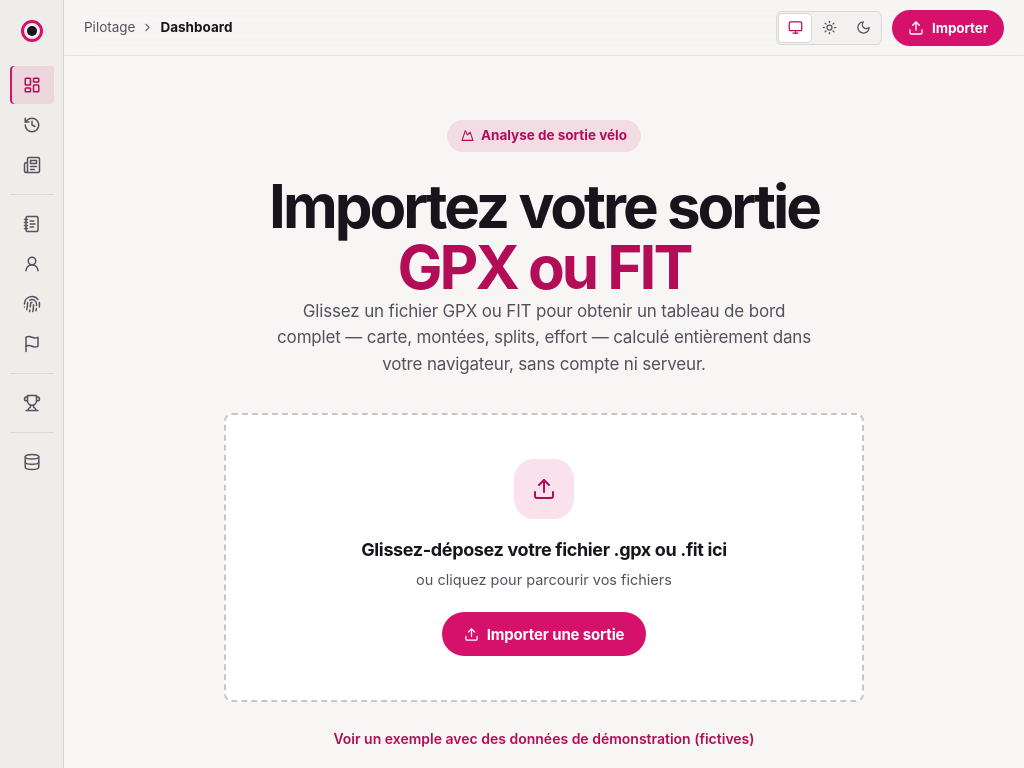
Test: Navigation principale — 6 destinations toujours accessibles › navigue directement vers Alter Ego depuis la navigation principale
Expected: the text "Glissez-déposez votre fichier .gpx ou .fit ici" is shown, [361,539,727,560]
Click the button "Alter Ego" at (32, 403), box [10,384,54,422]
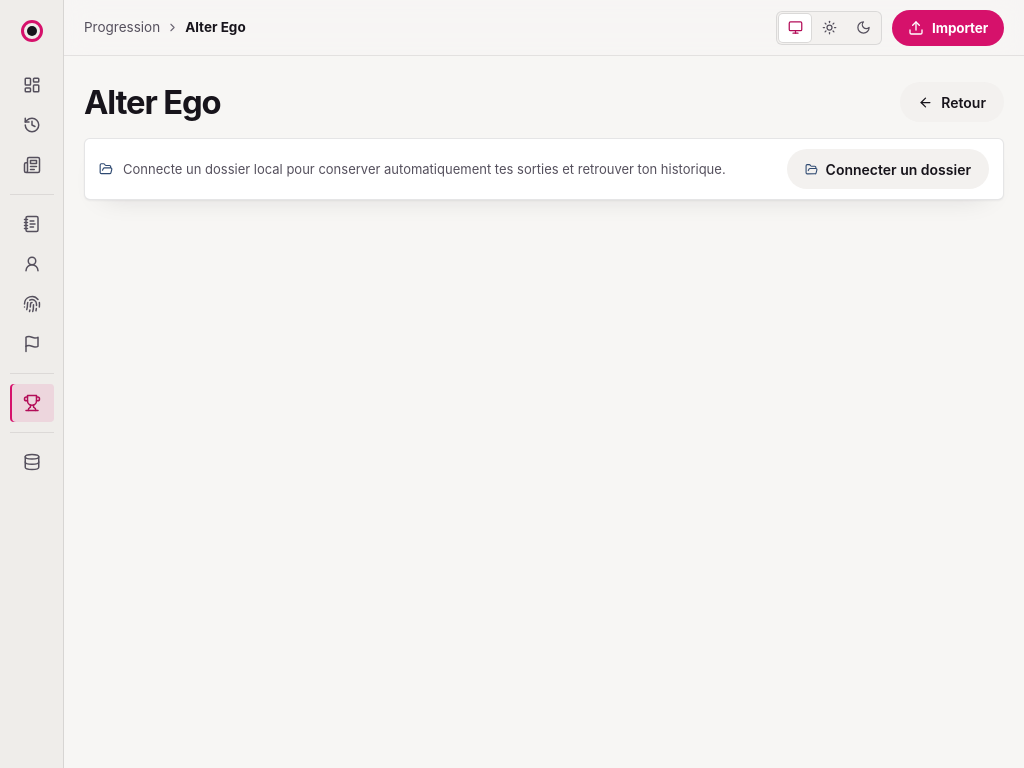
Expected: the heading "Alter Ego" is shown, [84,82,220,122]
